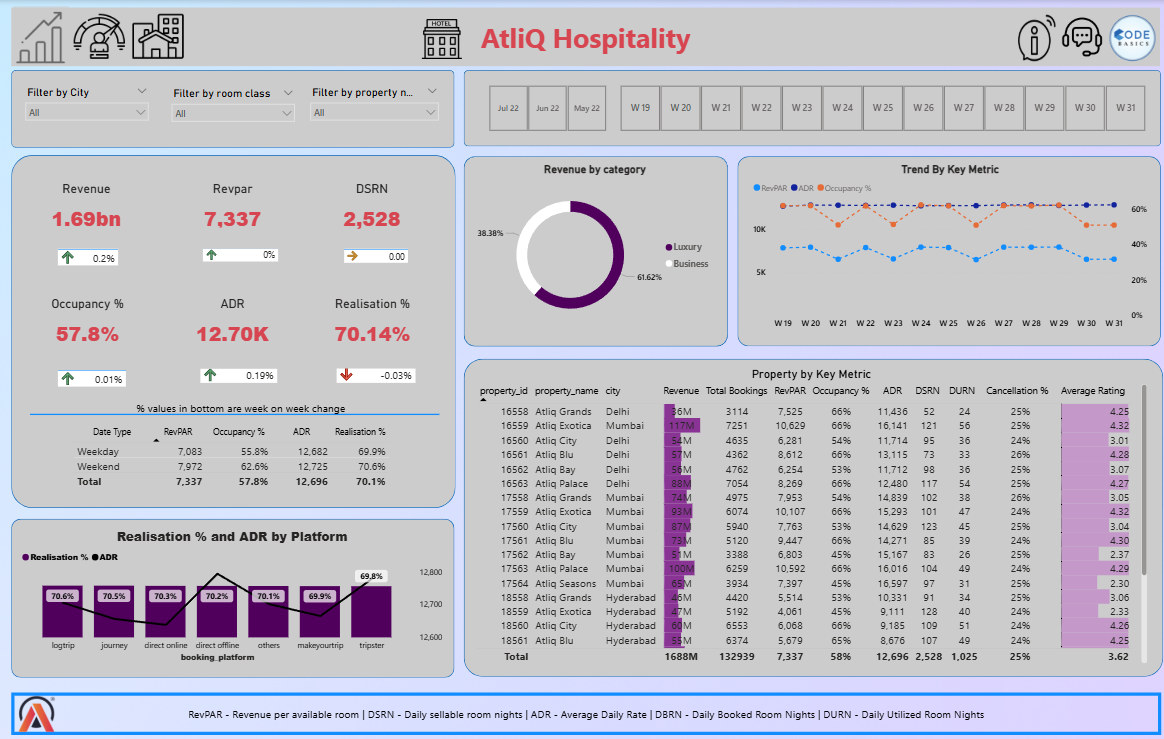

Layout of this report page (visuals, bound fields, positions):
{"tool":"powerbi","page":{"name":"Overall","canvas":[1280,760],"ordinal":0},"visuals":[{"type":"shape","box":[0,0,1280,134.4],"z":0},{"type":"textbox","box":[0,0,1278.1,75.7],"z":0,"group":"g1"},{"type":"group","id":"g1","title":"visuals","box":[0,0,1278.1,727],"z":1000},{"type":"shape","box":[1058.5,70.1,208.3,136.3],"z":1000,"group":"g1"},{"type":"shape","box":[839.3,70.1,208.3,136.3],"z":2000,"group":"g1"},{"type":"textbox","box":[443.5,163.2,145.1,44.5],"z":2000},{"type":"shape","box":[620.1,73.8,208.3,132.5],"z":3000,"group":"g1"},{"type":"textbox","box":[880.3,161.6,145.1,44.5],"z":3000},{"type":"shape","box":[404.7,73.8,204.5,132.5],"z":4000,"group":"g1"},{"type":"textbox","box":[1094.7,156.6,145.1,44.5],"z":4000},{"type":"textbox","box":[224.2,164.9,145.1,39.6],"z":5000},{"type":"clusteredBarChart","title":"Revenue by City","fields":{"Category":["dim_hotels.city"],"Y":["resource_measures.revenue"]},"box":[185.9,222.1,181,251.7],"z":5000,"group":"g1"},{"type":"card","fields":{"Values":["resource_measures.Occupancy %"]},"box":[454.4,96.6,119.3,64.4],"z":6000,"group":"g1"},{"type":"textbox","box":[654.5,163.2,145.1,44.5],"z":6000},{"type":"textbox","box":[802.3,207.8,456.5,48.5],"z":6500},{"type":"textbox","box":[24.7,727,1063.3,33],"z":6750},{"type":"clusteredBarChart","title":"Occupancy % by City","fields":{"Category":["dim_hotels.city"],"Y":["resource_measures.Occupancy %"]},"box":[384.1,222.6,176.4,252.2],"z":7000,"group":"g1"},{"type":"gauge","fields":{"MaxValue":["resource_measures.max.rating"],"MinValue":["resource_measures.min.rating"],"Y":["resource_measures.avg.rating mod"]},"box":[643,87.4,161.6,84.1],"z":8000,"group":"g1"},{"type":"clusteredBarChart","title":"Avg. rating by City","fields":{"Category":["dim_hotels.city"],"Y":["resource_measures.Avg. rating"]},"box":[573.7,220.9,196.2,252.2],"z":9000,"group":"g1"},{"type":"image","box":[7.6,4.5,47,57.6],"z":10000},{"type":"donutChart","title":"Occupancy Raio","fields":{"Category":["dim_date.day_type"],"Y":["resource_measures.Occupancy %"]},"box":[1045.2,488,220.9,227.5],"z":10000,"group":"g1"},{"type":"areaChart","title":"Weekly Trend (Revenue & Rating)","fields":{"Category":["dim_date.week no"],"Y2":["resource_measures.Avg. rating"],"Y":["resource_measures.revenue"]},"box":[793.2,256.3,473.2,216.9],"z":11000,"group":"g1"},{"type":"clusteredBarChart","title":"Bookings by Platform","fields":{"Category":["fact_bookings.booking_platform"],"Y":["resource_measures.Total bookings"]},"box":[793,489.6,240.7,224.2],"z":12000,"group":"g1"},{"type":"pivotTable","fields":{"Rows":["dim_hotels.property_name","dim_hotels.city"],"Values":["resource_measures.revenue","resource_measures.Avg. rating","resource_measures.Occupancy %","resource_measures.Total bookings","resource_measures.CR","resource_measures.Total cancelled bookings","resource_measures.Total capacity"]},"box":[186.3,488,583.6,224.2],"z":13000,"group":"g1"},{"type":"shape","box":[8.2,69.2,168.2,657.8],"z":14000,"group":"g1"},{"type":"slicer","fields":{"Values":["dim_date.week no"]},"box":[14.8,618.2,155,74.2],"z":15000,"group":"g1"},{"type":"slicer","fields":{"Values":["dim_date.mmm yy.Variation.Date Hierarchy.Month"]},"box":[14.8,532.5,155,72.5],"z":16000,"group":"g1"},{"type":"slicer","fields":{"Values":["fact_bookings.booking_platform"]},"box":[15.1,435.8,155.3,81.4],"z":17000,"group":"g1"},{"type":"slicer","fields":{"Values":["fact_bookings.booking_status"]},"box":[15.1,341.5,155.3,75.7],"z":18000,"group":"g1"},{"type":"slicer","fields":{"Values":["dim_hotels.city"]},"box":[15.1,256.7,155.3,66.3],"z":19000,"group":"g1"},{"type":"slicer","fields":{"Values":["dim_hotels.property_name"]},"box":[15.1,171.9,155.3,66.3],"z":20000,"group":"g1"},{"type":"card","fields":{"Values":["resource_measures.LDC"]},"box":[1088.6,87.4,150,74.2],"z":21000,"group":"g1"},{"type":"card","fields":{"Values":["resource_measures.CR"]},"box":[869.1,77.6,155.3,102.2],"z":22000,"group":"g1"},{"type":"shape","box":[185.6,72,208.3,134.4],"z":23000,"group":"g1"},{"type":"card","fields":{"Values":["resource_measures.revenue"]},"box":[206.7,87.4,163.2,74.2],"z":24000,"group":"g1"},{"type":"image","title":"atliq","box":[15.1,90.4,77.6,73.8],"z":25000,"group":"g1"},{"type":"image","title":"codebasics","box":[85.2,90.4,85.2,77.6],"z":26000,"group":"g1"},{"type":"image","title":"three dot menu","box":[1213.7,15.1,64.4,47.3],"z":27000,"group":"g1"}]}

Visuals, with their boxes on the page's 1280x760 design canvas (x1, y1, x2, y2). These are canvas units, not pixel positions in the 1164x739 screenshot, which may show the page scaled, cropped or inside an application window:
shape: bbox=(0, 0, 1280, 134)
textbox: bbox=(0, 0, 1278, 76)
"visuals" group: bbox=(0, 0, 1278, 727)
shape: bbox=(1058, 70, 1267, 206)
shape: bbox=(839, 70, 1048, 206)
textbox: bbox=(444, 163, 589, 208)
shape: bbox=(620, 74, 828, 206)
textbox: bbox=(880, 162, 1025, 206)
shape: bbox=(405, 74, 609, 206)
textbox: bbox=(1095, 157, 1240, 201)
textbox: bbox=(224, 165, 369, 204)
"Revenue by City" clusteredBarChart: bbox=(186, 222, 367, 474)
card - resource_measures.Occupancy %: bbox=(454, 97, 574, 161)
textbox: bbox=(654, 163, 800, 208)
textbox: bbox=(802, 208, 1259, 256)
textbox: bbox=(25, 727, 1088, 760)
"Occupancy % by City" clusteredBarChart: bbox=(384, 223, 560, 475)
gauge - resource_measures.max.rating x resource_measures.min.rating: bbox=(643, 87, 805, 172)
"Avg. rating by City" clusteredBarChart: bbox=(574, 221, 770, 473)
image: bbox=(8, 4, 55, 62)
"Occupancy Raio" donutChart: bbox=(1045, 488, 1266, 716)
"Weekly Trend (Revenue & Rating)" areaChart: bbox=(793, 256, 1266, 473)
"Bookings by Platform" clusteredBarChart: bbox=(793, 490, 1034, 714)
pivotTable - dim_hotels.property_name x dim_hotels.city: bbox=(186, 488, 770, 712)
shape: bbox=(8, 69, 176, 727)
slicer - dim_date.week no: bbox=(15, 618, 170, 692)
slicer - dim_date.mmm yy.Variation.Date Hierarchy.Month: bbox=(15, 532, 170, 605)
slicer - fact_bookings.booking_platform: bbox=(15, 436, 170, 517)
slicer - fact_bookings.booking_status: bbox=(15, 342, 170, 417)
slicer - dim_hotels.city: bbox=(15, 257, 170, 323)
slicer - dim_hotels.property_name: bbox=(15, 172, 170, 238)
card - resource_measures.LDC: bbox=(1089, 87, 1239, 162)
card - resource_measures.CR: bbox=(869, 78, 1024, 180)
shape: bbox=(186, 72, 394, 206)
card - resource_measures.revenue: bbox=(207, 87, 370, 162)
"atliq" image: bbox=(15, 90, 93, 164)
"codebasics" image: bbox=(85, 90, 170, 168)
"three dot menu" image: bbox=(1214, 15, 1278, 62)
